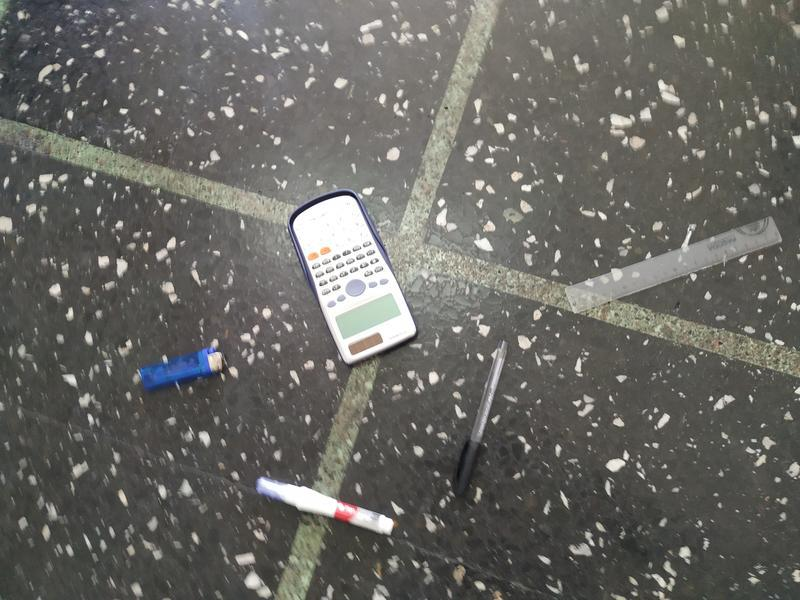calculadora: (280, 186, 423, 366)
corrector: (251, 465, 402, 542)
encendedor: (132, 341, 229, 398)
lapicera: (450, 332, 510, 502)
regla: (568, 211, 785, 324)
